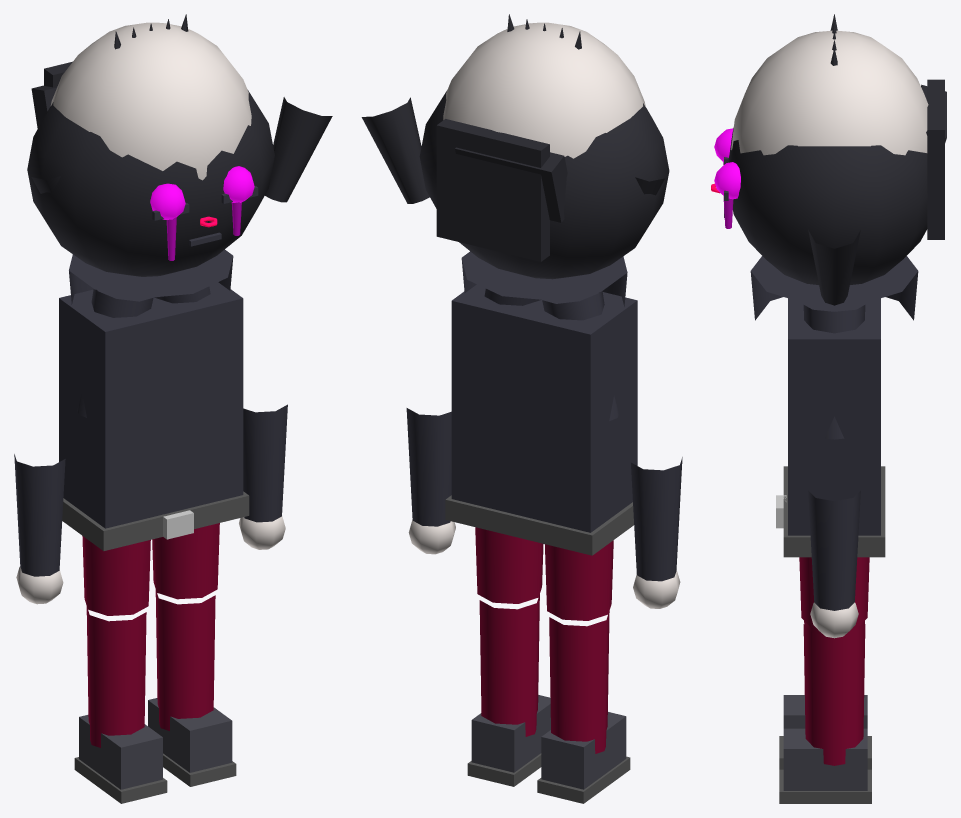
Rendered from emo.glb.
3 renders of one model, left to right at view 1: azimuth 30°, elevation 25°; view 2: azimuth 150°, elevation 25°; view 3: azimuth 270°, elevation 25°, orthographic.
Visible parts, largest first — view 1: torso, hair-main, head, shin--1, shin-1, arm-lo--1, thigh--1, arm-lo-1, thigh-1, hoodie-c, boot--1, boot-1 (+11 smaller); view 2: torso, head, hair-main, hair-back, shin-1, shin--1, arm-lo--1, thigh--1, arm-lo-1, belt, thigh-1, hoodie-c (+9 smaller); view 3: hair-main, head, torso, shin-1, arm-lo-1, hoodie-c, boot-1, hair-back, hair-side-l, belt, thigh-1, arm-up-1 (+4 smaller).
Boxes of the visible parts, x1,y1,x2,y2 form: torso: (59,282,243,528); hair-main: (27,90,274,276); head: (50,22,251,180); shin--1: (86,606,146,747); shin-1: (155,589,215,730); arm-lo--1: (14,454,65,576); thigh--1: (82,536,150,615); arm-lo-1: (243,404,287,522); thigh-1: (152,523,219,599); hoodie-c: (69,249,233,304); boot--1: (79,715,162,789); boot-1: (148,698,232,772); torso: (451,284,637,532); head: (443,22,645,158); hair-main: (419,91,669,279); hair-back: (436,119,549,261); shin-1: (479,594,539,736); shin--1: (549,611,609,753); arm-lo--1: (631,457,682,581); thigh--1: (544,540,613,620); arm-lo-1: (406,408,451,526); belt: (445,495,633,555); thigh-1: (475,527,543,603); hoodie-c: (461,251,627,306); hair-main: (728,128,927,284); head: (731,30,928,155); torso: (788,298,880,535); shin-1: (803,624,865,765); arm-lo-1: (808,490,860,610); hoodie-c: (750,256,918,320); boot-1: (783,728,867,790); hair-back: (927,79,944,239); hair-side-l: (808,229,860,305); belt: (783,466,885,557); thigh-1: (799,557,869,628); arm-up-1: (803,305,865,439).
Size of the model in its own units: 1.63 by 3.72 by 1.07.
